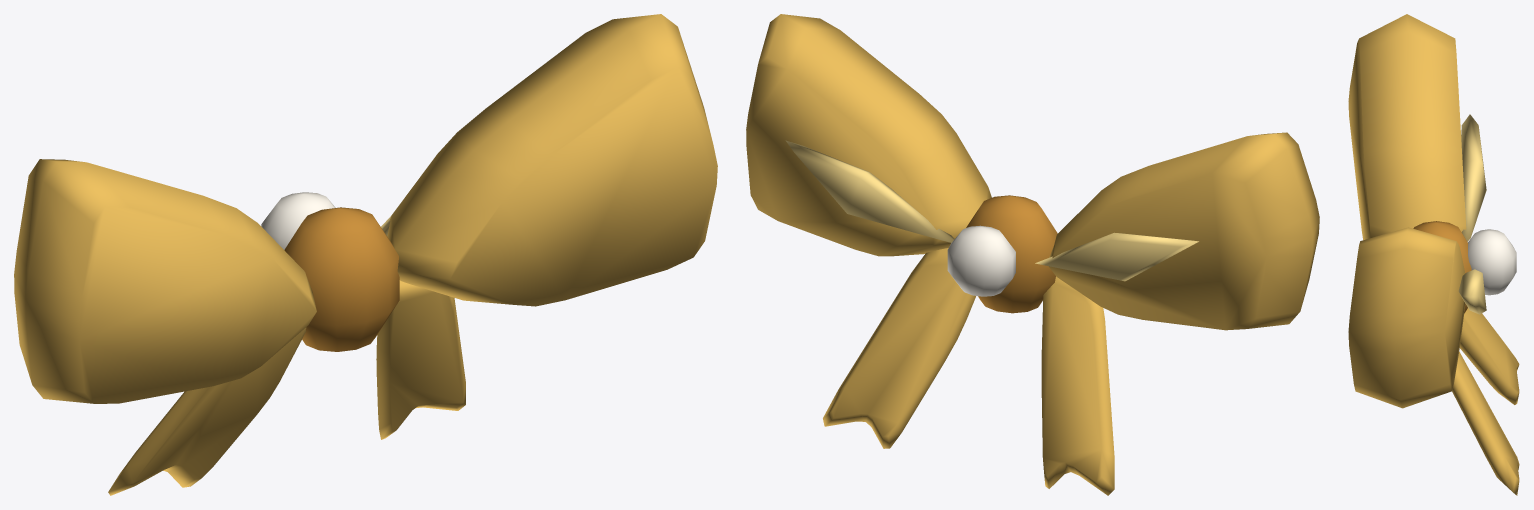
The model's file is ribbon_gold.glb.
3 views of the same model, side by side, from view 1: azimuth 30°, elevation 25°; view 2: azimuth 150°, elevation 25°; view 3: azimuth 270°, elevation 25° (orthographic). The views are drawn at different scales.
Parts seen in each view (by area): view 1: Loop.001, Loop, Knot, Tail.001, Tail, Pearl; view 2: Loop, Loop.001, Tail.001, Tail, Knot, Fold.001, Fold, Pearl; view 3: Loop, Loop.001, Tail.001, Tail, Pearl, Fold, Fold.001, Knot.
Boxes of the visible parts, box(x1,y1,x2,y2) form: Loop.001: box(387, 14, 717, 306); Loop: box(14, 159, 316, 403); Knot: box(284, 207, 399, 351); Tail.001: box(376, 280, 465, 439); Tail: box(108, 327, 306, 495); Pearl: box(261, 192, 335, 249); Loop: box(1049, 132, 1319, 330); Loop.001: box(746, 14, 991, 256); Tail.001: box(823, 248, 975, 448); Tail: box(1041, 276, 1114, 495); Knot: box(966, 195, 1057, 313); Fold.001: box(785, 140, 954, 242); Fold: box(1035, 232, 1198, 281); Pearl: box(947, 225, 1015, 296); Loop: box(1348, 14, 1466, 239); Loop.001: box(1348, 227, 1465, 408); Tail.001: box(1452, 352, 1519, 495); Tail: box(1459, 308, 1519, 404); Pearl: box(1468, 229, 1516, 295); Fold: box(1461, 114, 1486, 241); Fold.001: box(1458, 269, 1486, 314); Knot: box(1413, 221, 1471, 313).
Bounding box in the file's own units: 0.1211 × 0.0728 × 0.0355.
Materials: 1 (1 with a texture image).
